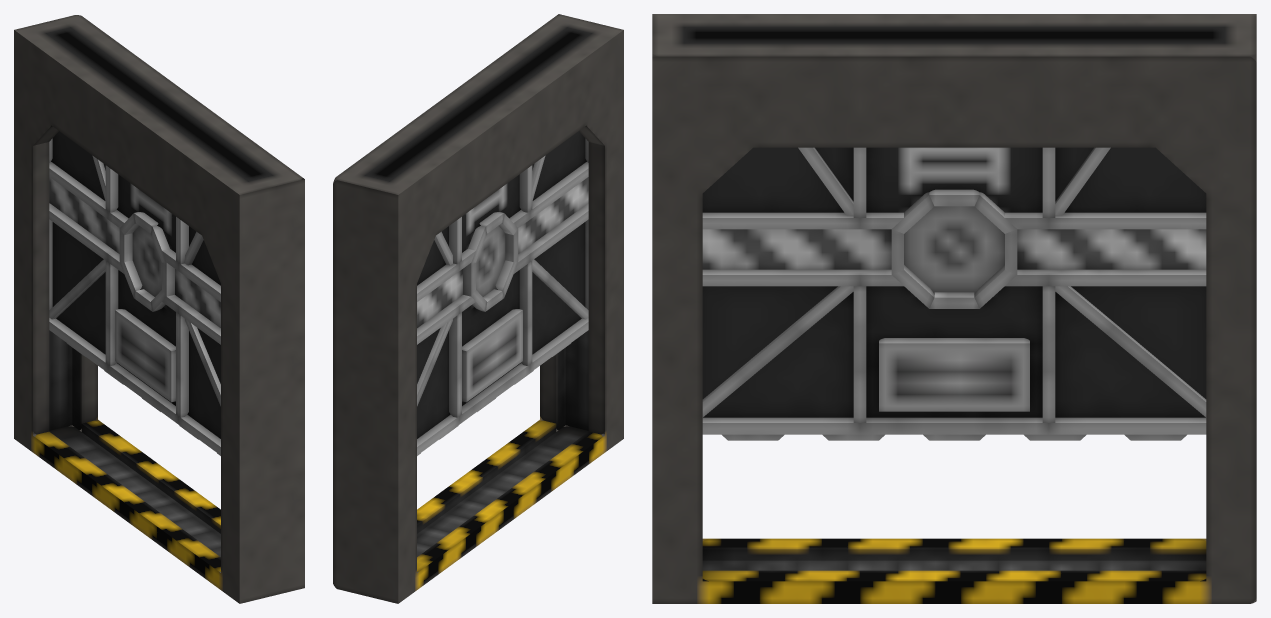
The model's file is qe_containment_53.obj.
3 views of the same model, side by side, from view 1: azimuth 30°, elevation 25°; view 2: azimuth 150°, elevation 25°; view 3: azimuth 270°, elevation 25° (orthographic). The views are drawn at different scales.
Visible parts, largest first — view 1: Frame, Door; view 2: Frame, Door; view 3: Frame, Door.
Part boxes in pixels (left/top/right/bottom): Frame: left=14, top=15, right=304, bottom=603; Door: left=49, top=131, right=220, bottom=455; Frame: left=333, top=14, right=623, bottom=603; Door: left=417, top=131, right=588, bottom=455; Frame: left=652, top=14, right=1256, bottom=603; Door: left=702, top=147, right=1206, bottom=440.
Bounding box in the file's own units: 0.5 × 3 × 3.
